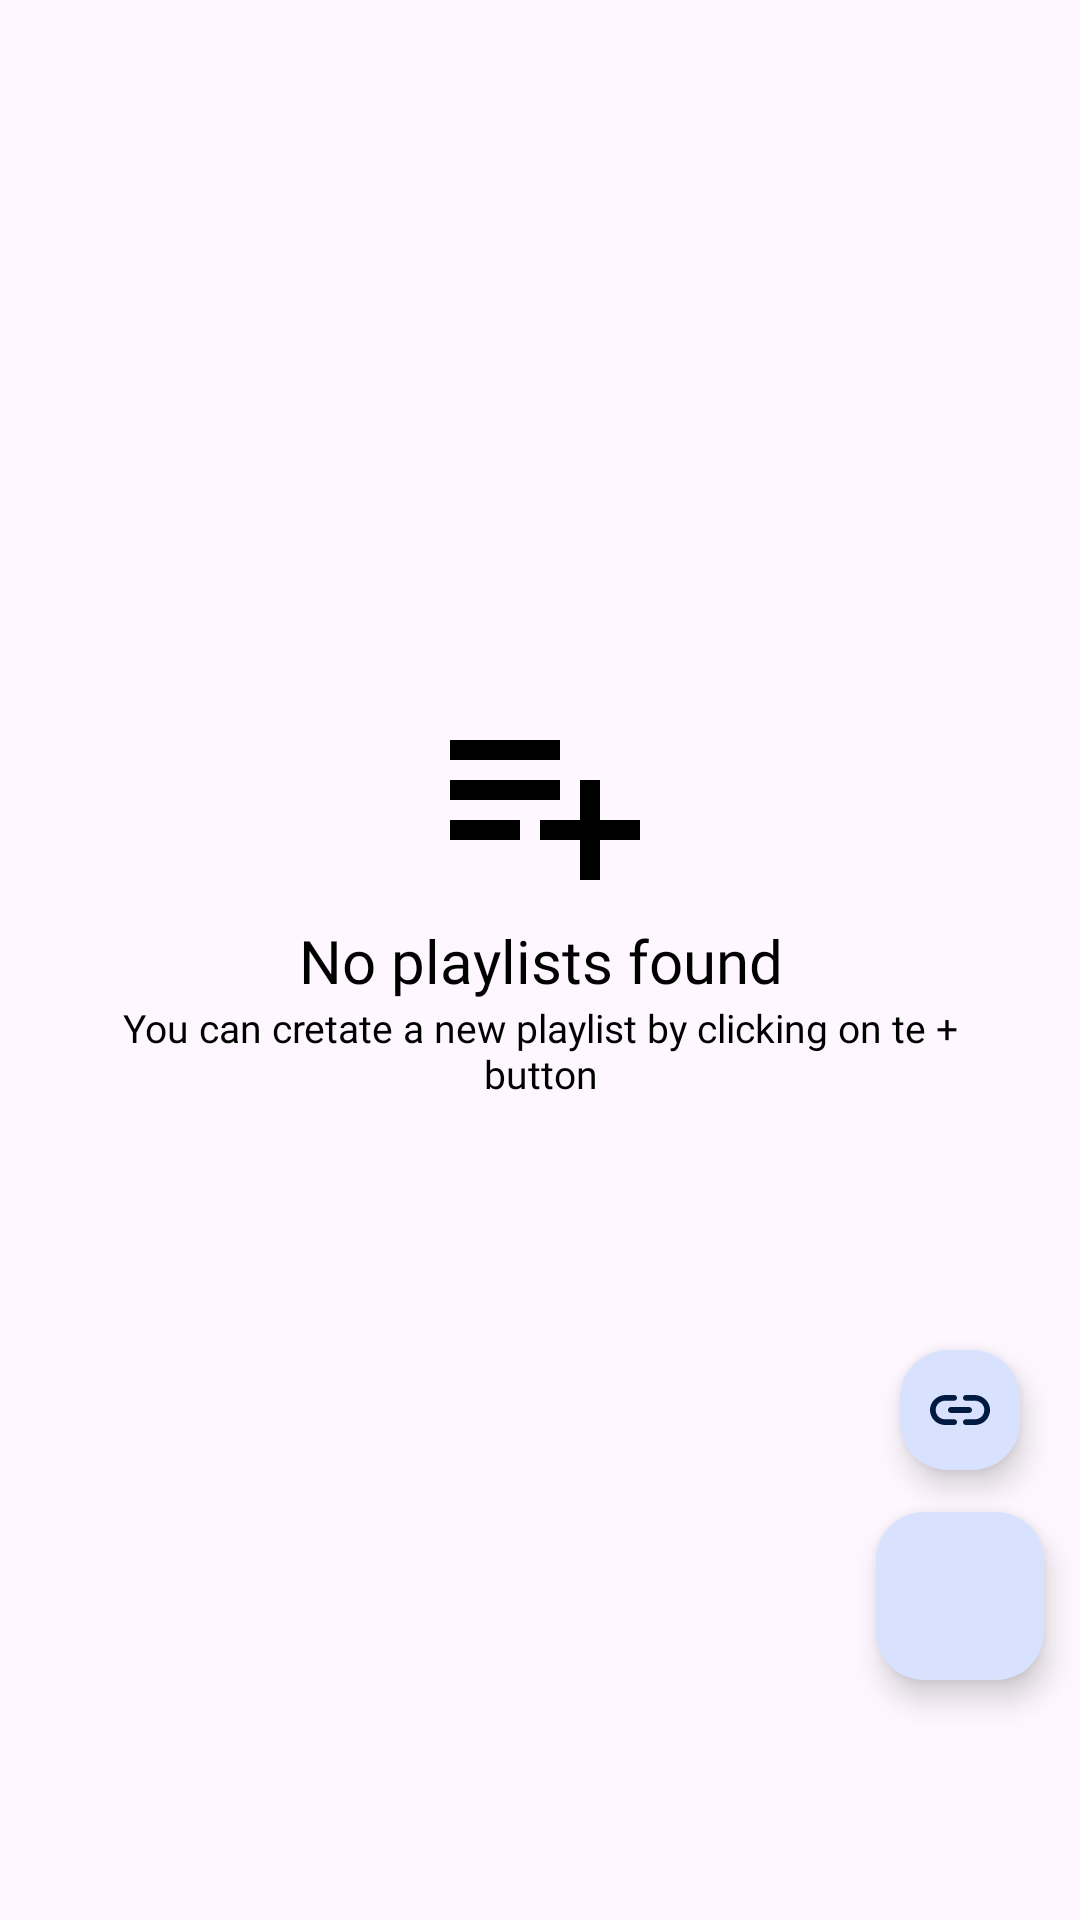

Icons on this 1080w x 1920h Android screen, each with its box as Rect(x1, y1, x2, y2):
Network Stream: Rect(900, 1350, 1023, 1482)
